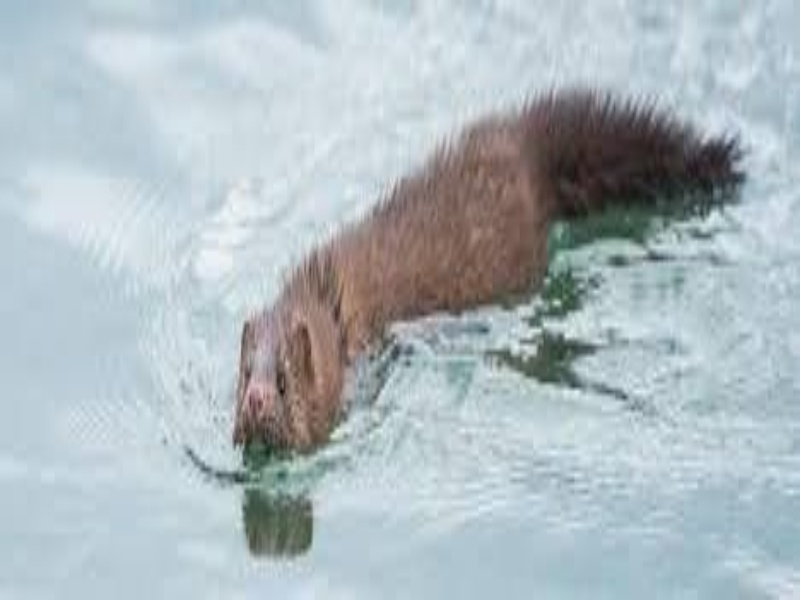minkish: (230, 82, 741, 459)
